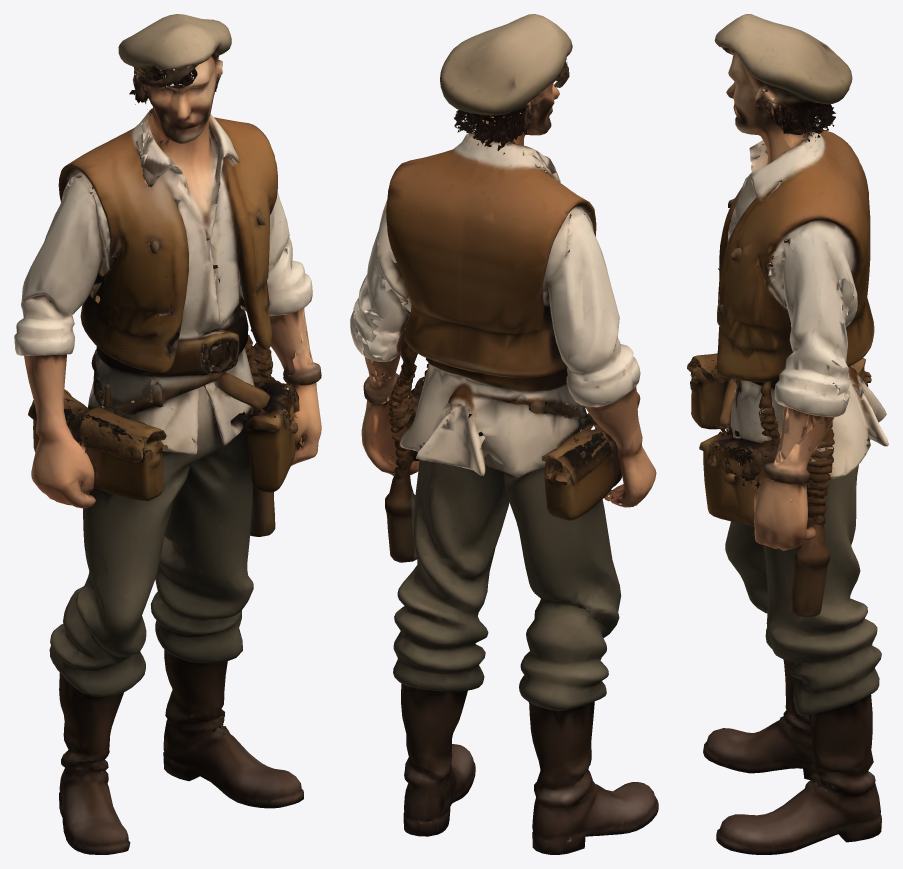
The model's file is fig_npc_pell.glb.
3 views of the same model, side by side, from view 1: azimuth 30°, elevation 25°; view 2: azimuth 150°, elevation 25°; view 3: azimuth 270°, elevation 25° (orthographic).
Parts seen in each view (by area): view 1: geometry_0; view 2: geometry_0; view 3: geometry_0.
Boxes of the visible parts, box(x1,y1,x2,y2) form: geometry_0: box(14, 14, 321, 854); geometry_0: box(350, 14, 658, 854); geometry_0: box(687, 14, 888, 854).
Bounding box in the file's own units: 0.3746 × 1 × 0.2326.
Materials: 1 (1 with a texture image).
